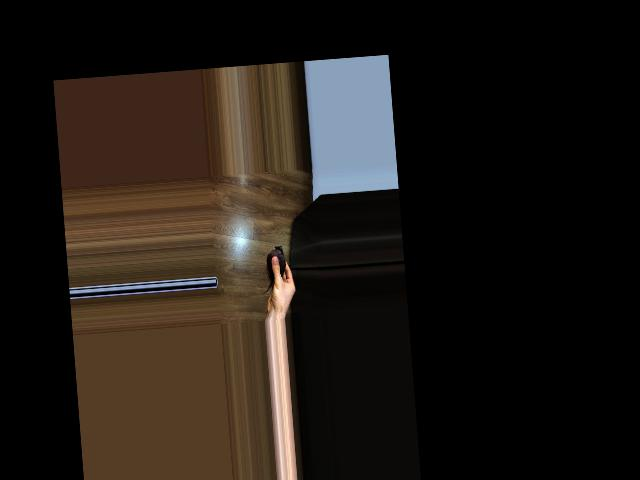beet: (259, 244, 287, 292)
